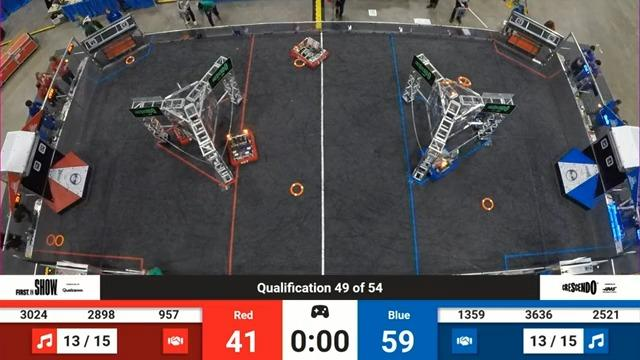robot: (410, 136, 468, 183), (288, 28, 334, 76), (464, 94, 505, 140), (164, 110, 203, 154), (220, 129, 264, 167)
